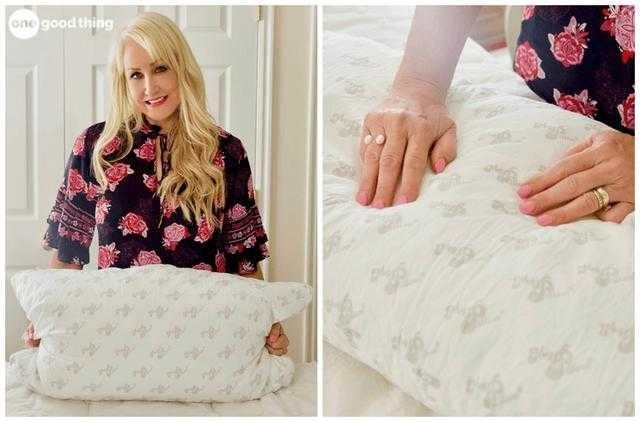pillow: (8, 263, 312, 403)
